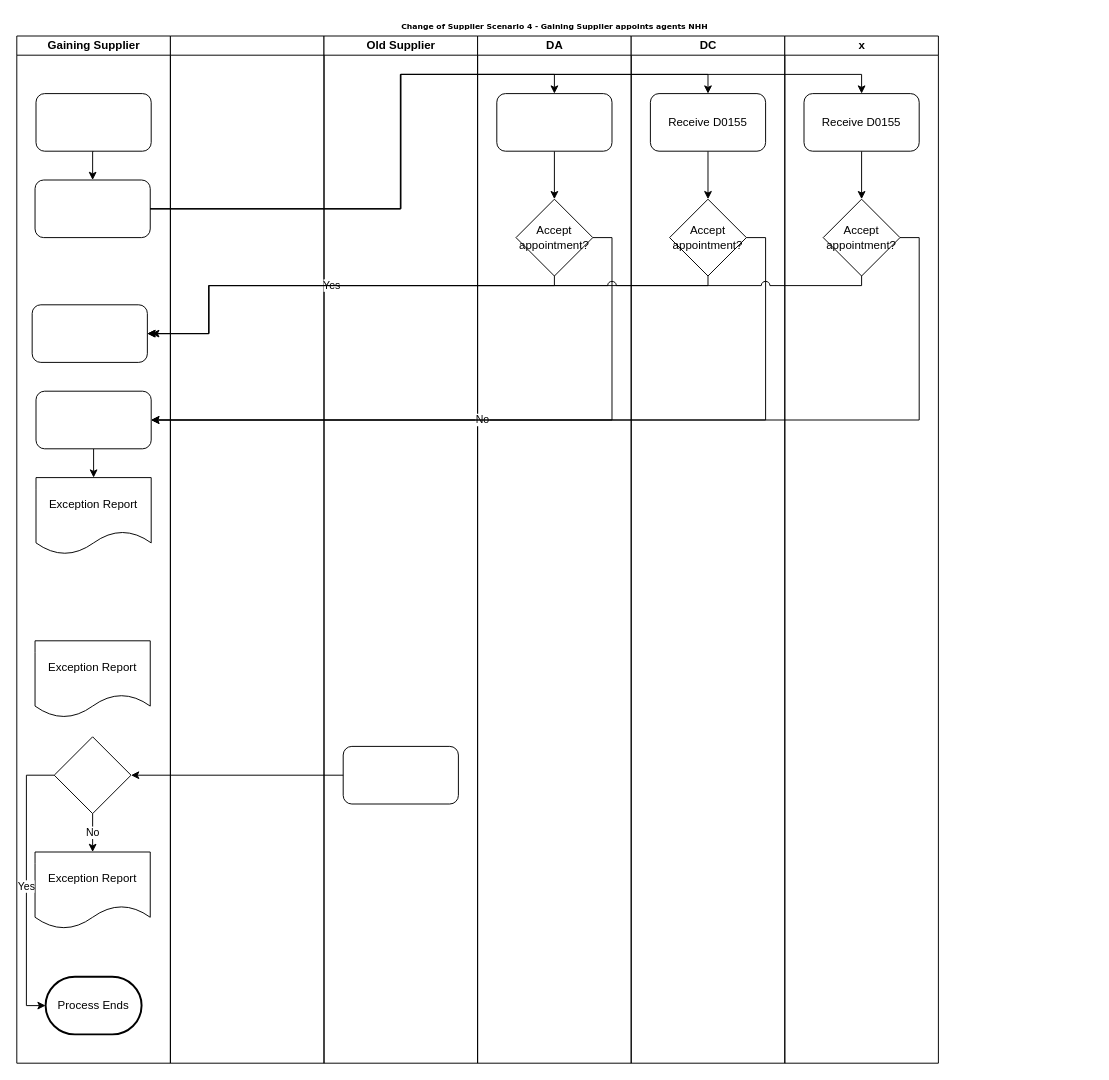
Some shapes in this 1109 by 1080 pixel diagram are drawn without their labels. The shapes that lost their labels are listed below. From the top down, each one's centre as x and y in pixels, then its label:
At pixel 93 122: "Receive D0217 & D0260 for new supply registration (NHH only)".
At pixel 554 122: "Receive D0153".
At pixel 92 208: "Generate D0153 for DA and D0155 for DC and MOp".
At pixel 89 333: "Receive D0011 per appointment".
At pixel 93 419: "Receive D0261 per appointment rejection".
At pixel 246 549: "MPAS".
At pixel 92 775: "Data matches?".
At pixel 400 774: "Sends Billing Data (D0311) once 5 day objection window expires".
